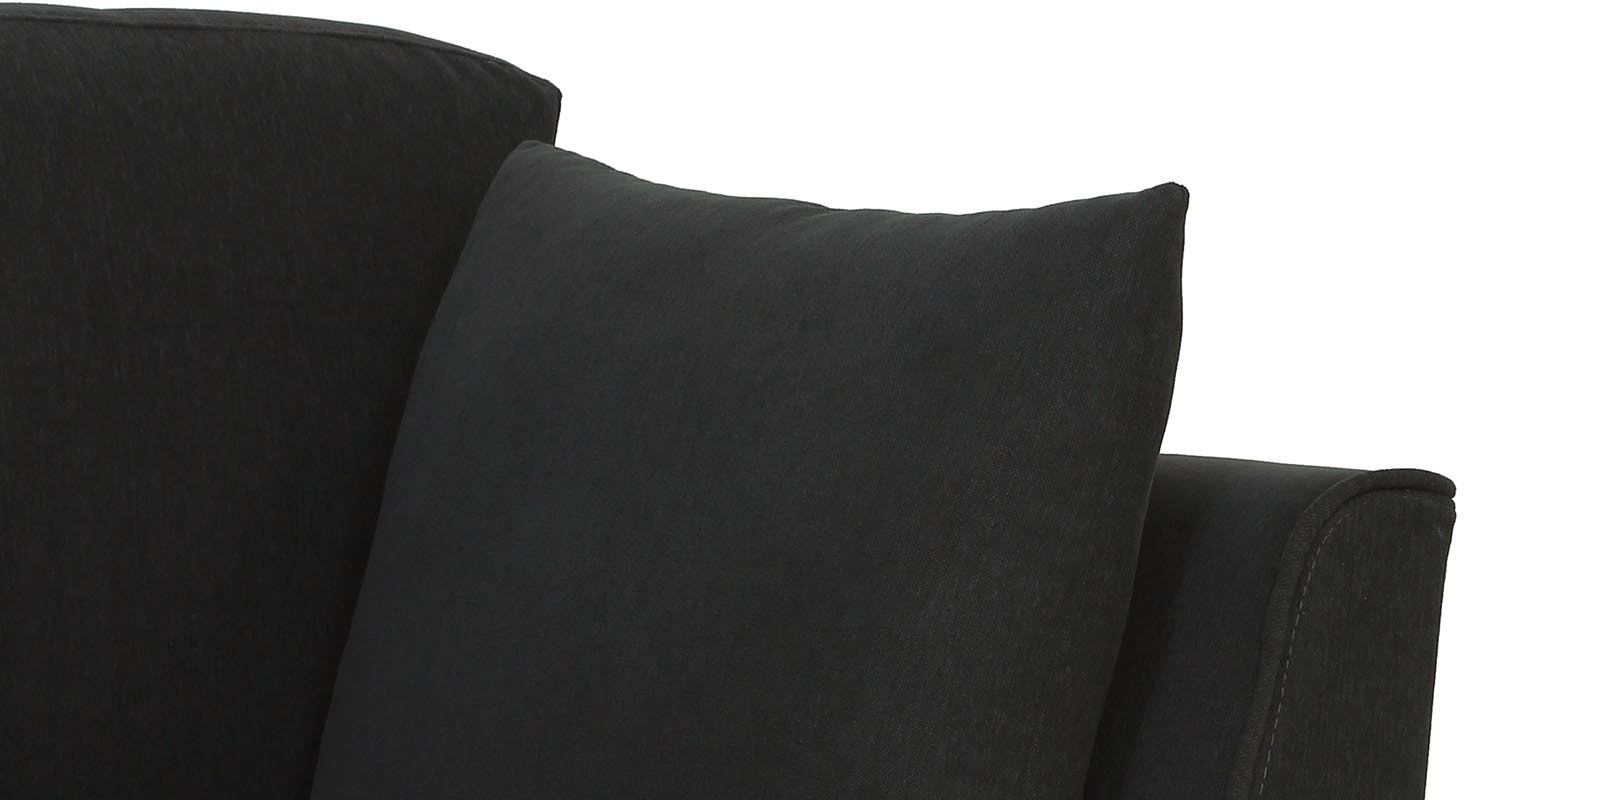Miranda Three Seater Sofa in Charcoal Grey Colour by CasaCraft: (1, 1, 1458, 800)
